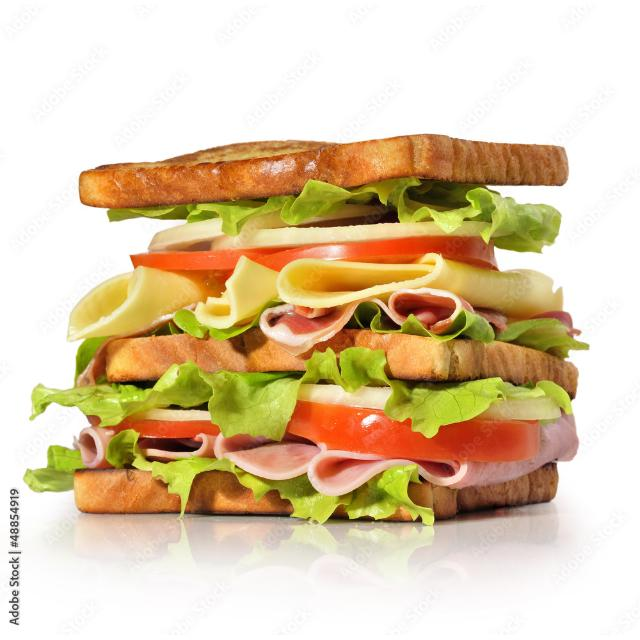organic: (27, 142, 596, 532)
